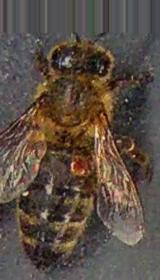varroa_mite: (56, 154, 96, 178)
